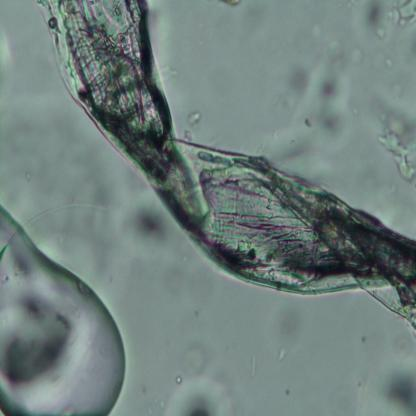Air bubble: (0, 208, 126, 414)
Background material: (272, 63, 351, 155), (371, 95, 416, 184), (295, 18, 361, 72), (118, 196, 176, 256), (63, 135, 108, 208), (369, 354, 416, 414), (167, 374, 233, 414), (365, 0, 416, 38), (268, 296, 304, 341), (175, 337, 209, 370), (0, 34, 18, 74), (386, 326, 408, 356), (274, 342, 291, 362), (186, 110, 204, 126), (215, 1, 245, 9), (250, 351, 258, 378), (24, 171, 34, 186), (282, 387, 292, 397)
Cotton: (36, 0, 416, 327)
